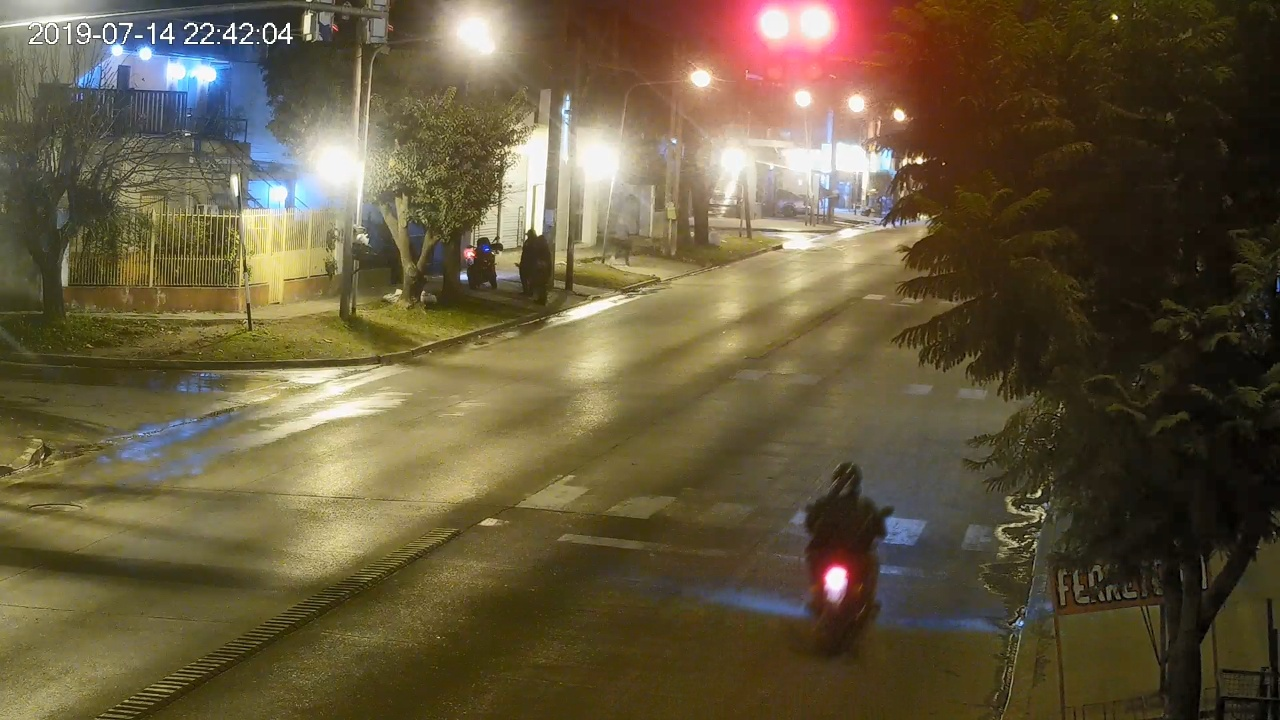motorcycle: (805, 504, 894, 647)
traffic light: (805, 9, 829, 80), (764, 10, 787, 79)
